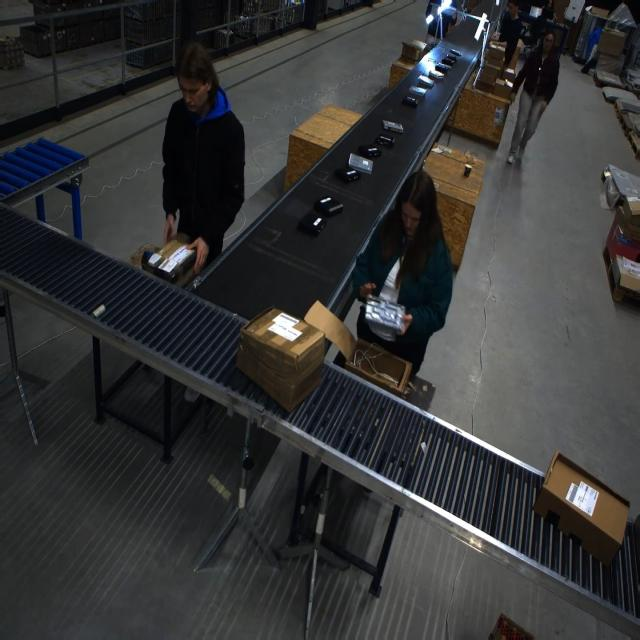box: (531, 448, 631, 563), (312, 295, 411, 402), (237, 306, 324, 412), (143, 234, 206, 288)
product: (298, 210, 328, 235), (314, 195, 343, 215), (348, 153, 373, 175), (334, 167, 361, 183), (357, 144, 381, 158), (382, 119, 404, 133), (376, 134, 395, 147), (408, 86, 427, 98), (401, 96, 418, 108), (417, 75, 434, 87), (428, 68, 444, 79), (435, 63, 450, 73), (443, 54, 458, 63), (449, 49, 462, 57)
